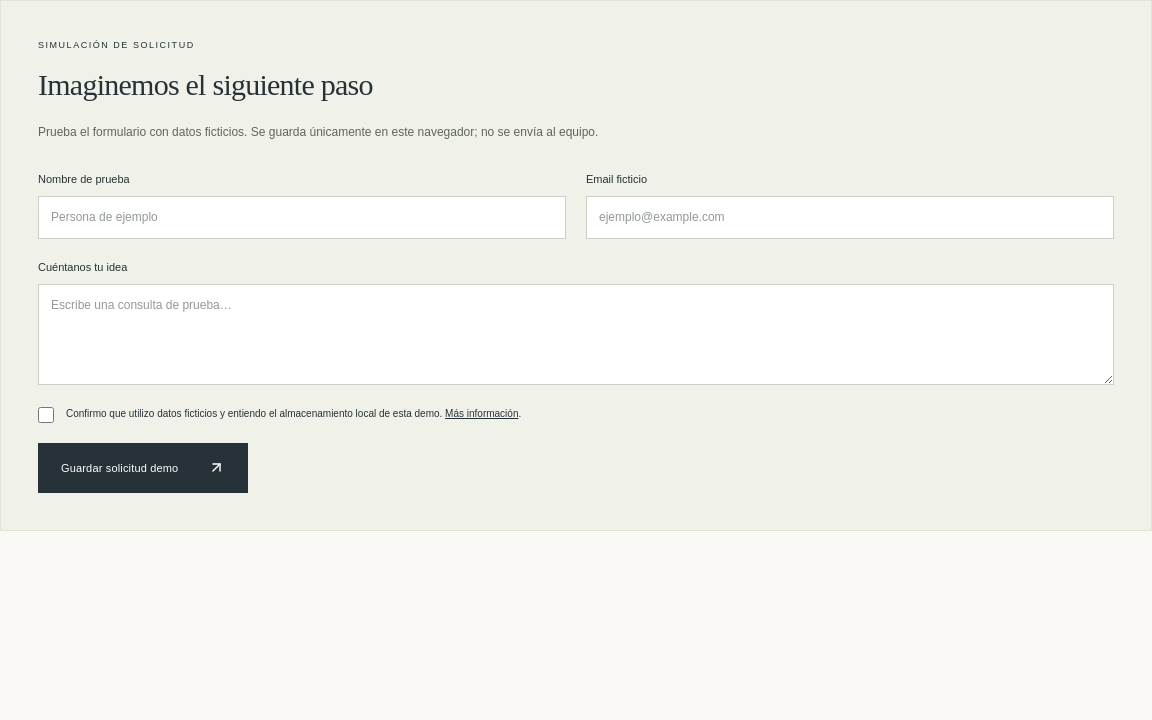
Test case: Demo flows › never reports success when browser persistence fails
Type "Prueba" into the field labelled "Nombre de prueba" at (302, 218), box top-left (38, 196), bottom-right (566, 239)
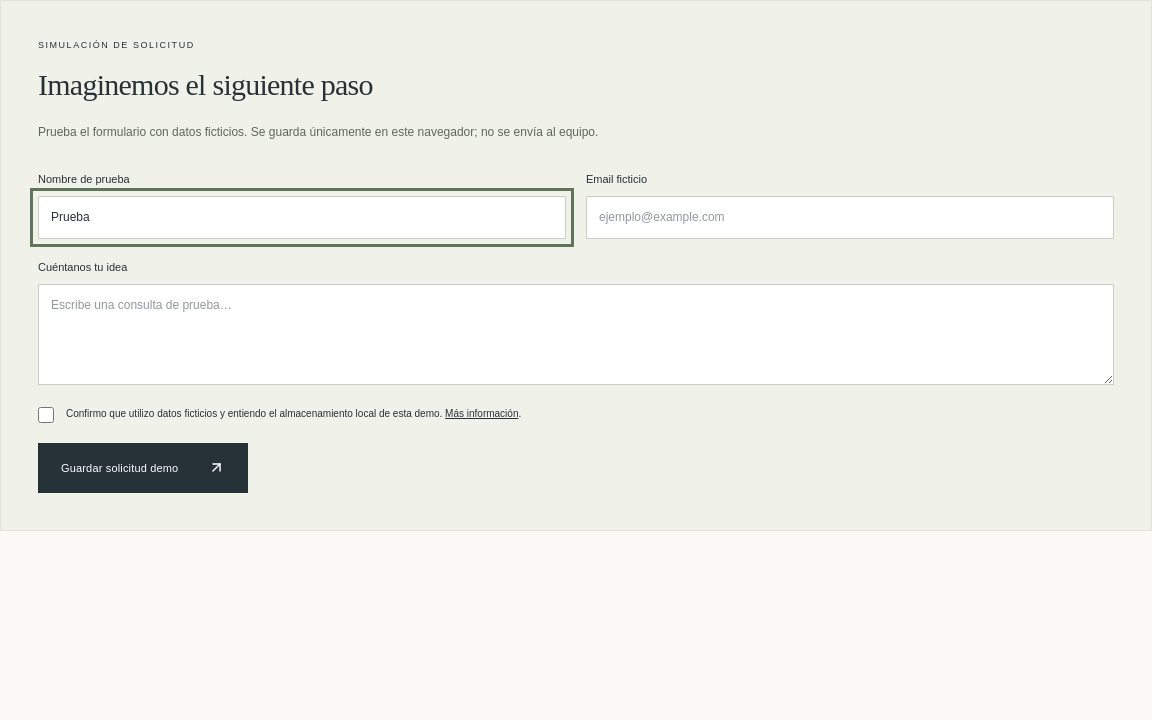
Type "demo@example.com" into the field labelled "Email ficticio" at (850, 218), box top-left (586, 196), bottom-right (1114, 239)
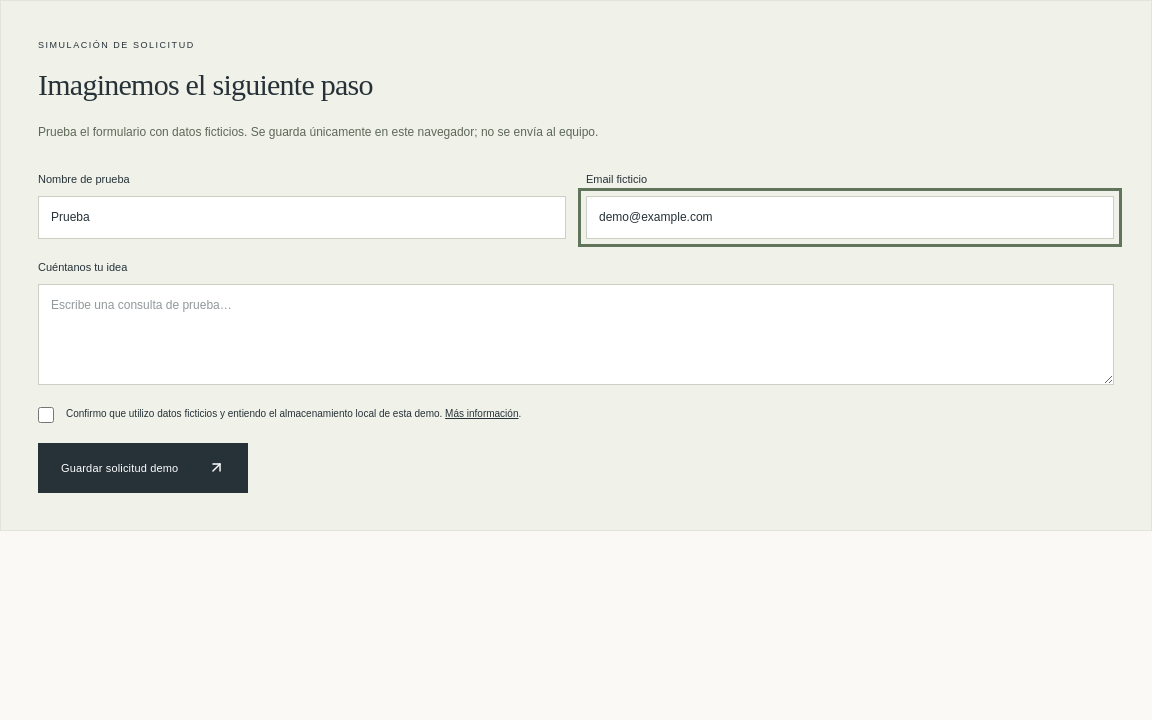
Type "Demo" into the text box labelled "Cuéntanos tu idea" at (576, 334), box top-left (38, 284), bottom-right (1114, 385)
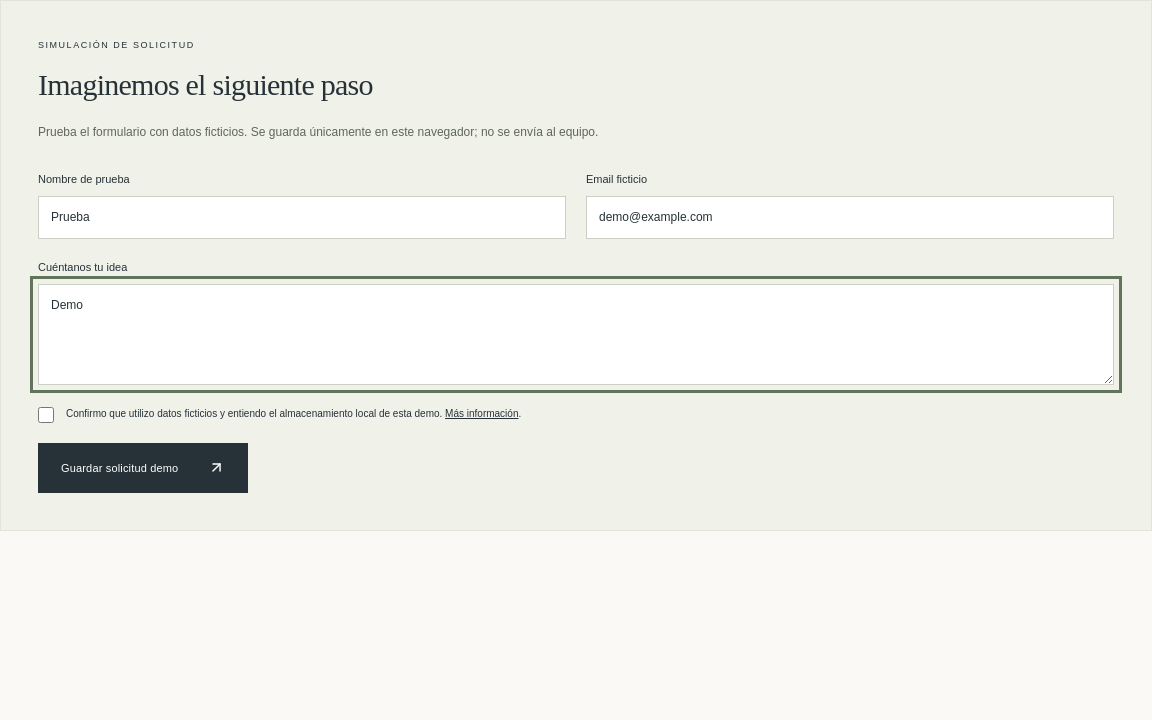
Click the checkbox at (46, 415), box top-left (38, 407), bottom-right (54, 423)
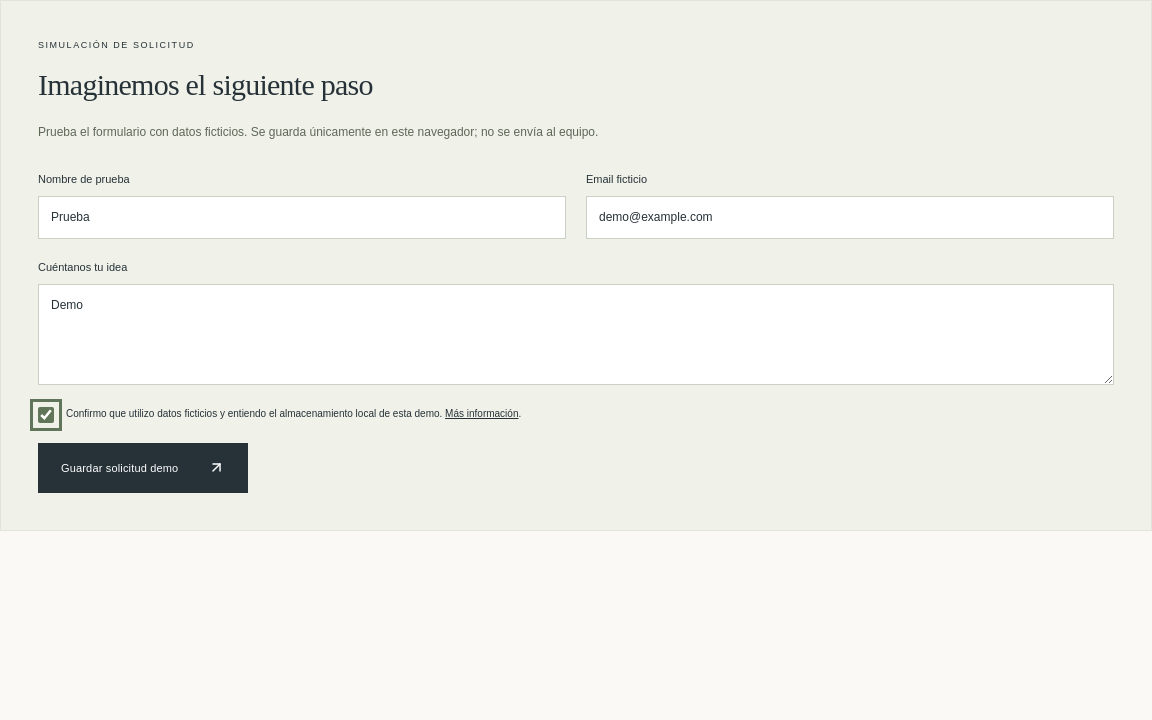
Click the button "Guardar solicitud demo" at (143, 468), box top-left (38, 443), bottom-right (248, 493)
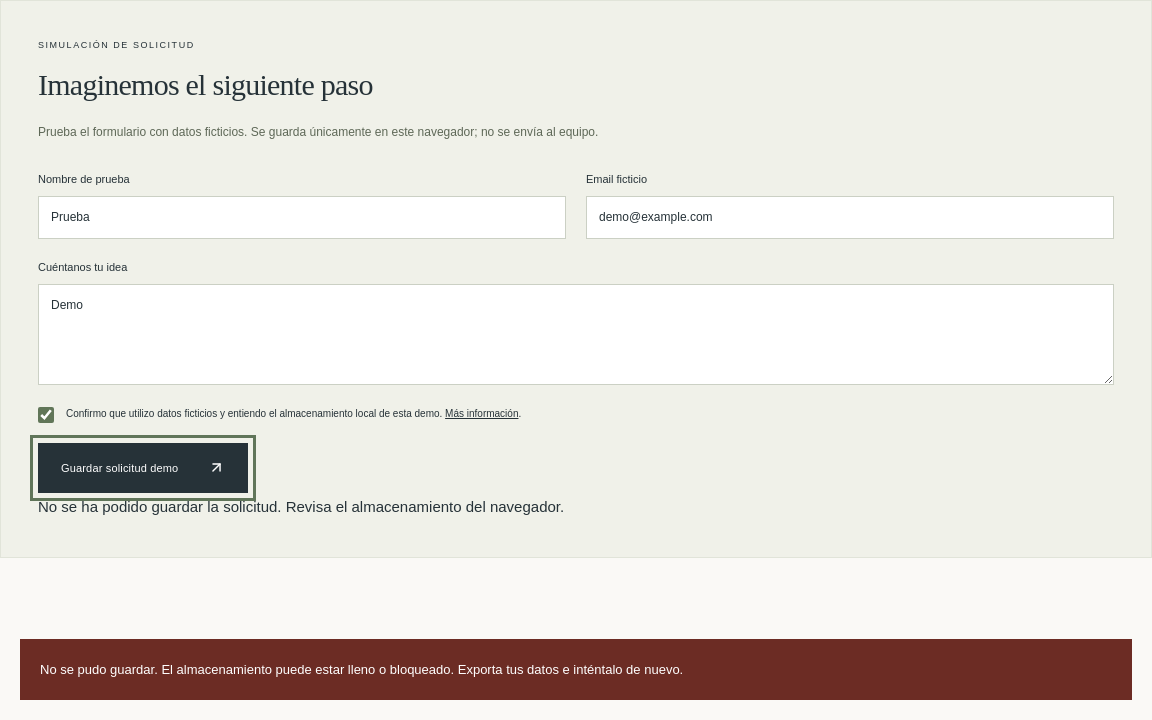
Expected: the text "No se ha podido guardar la solicitud. Revisa el almacenamiento del navegador." is shown, top-left (38, 498), bottom-right (564, 515)
